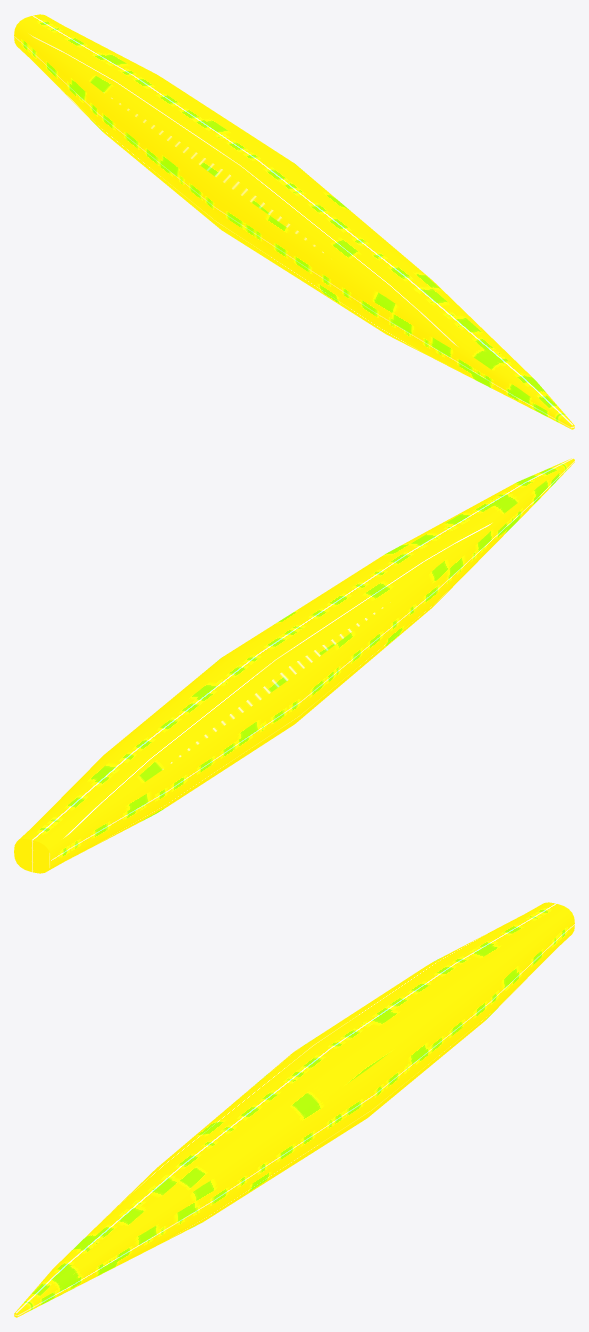
Rendered from POD_R.glb.
3 renders of one model, top to bottom at view 1: azimuth 30°, elevation 25°; view 2: azimuth 150°, elevation 25°; view 3: azimuth 330°, elevation 25°, orthographic.
Parts seen in each view (by area): view 1: POD_R_01; view 2: POD_R_01; view 3: POD_R_01.
Part boxes in pixels (x1,y1,x2,y2): POD_R_01: (14,14,574,429); POD_R_01: (14,458,574,873); POD_R_01: (14,902,574,1317).
Bounding box in the file's own units: 0.8398 × 0.6799 × 9.1.
1 material, 1 textured.
